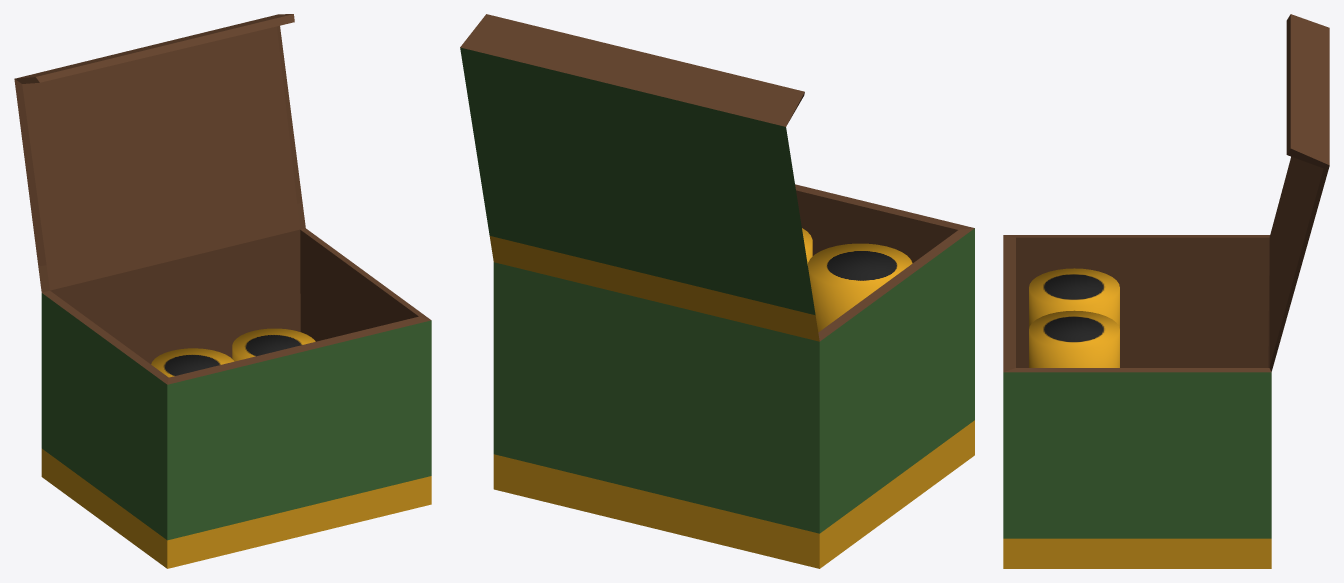
Rendered from ammo_box.glb.
The picture shows the model from 3 angles, left to right: view 1: azimuth 30°, elevation 25°; view 2: azimuth 150°, elevation 25°; view 3: azimuth 270°, elevation 25°; orthographic projection. The views are drawn at different scales.
Visible parts, largest first — view 1: ammo_box, ammo; view 2: ammo_box, ammo; view 3: ammo_box, ammo.
Part boxes in pixels (x1=…): ammo_box: x1=14, y1=14, x2=431, y2=568; ammo: x1=151, y1=328, x2=315, y2=377; ammo_box: x1=460, y1=14, x2=974, y2=568; ammo: x1=802, y1=228, x2=912, y2=332; ammo_box: x1=1003, y1=14, x2=1329, y2=568; ammo: x1=1029, y1=268, x2=1119, y2=367.
Bounding box in the file's own units: 1 × 1.42 × 1.
5 materials, 1 textured.
